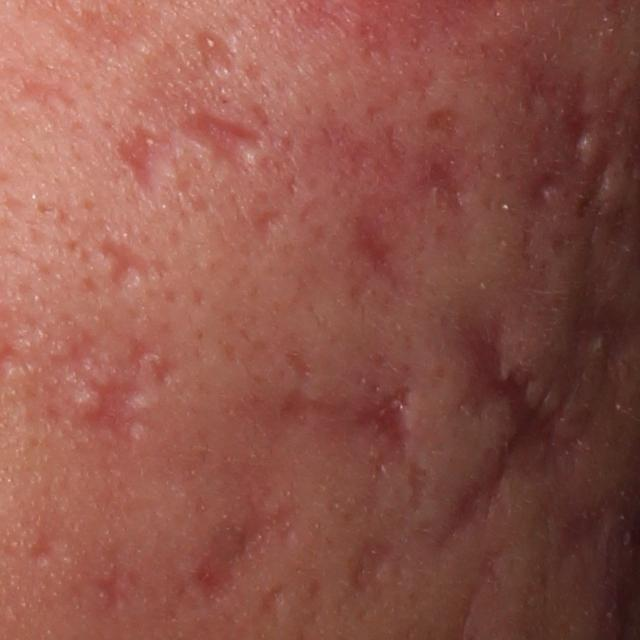atrophic_scar: (444, 318, 574, 545), (539, 245, 636, 412), (185, 499, 303, 605), (275, 382, 415, 466), (511, 51, 596, 160), (70, 374, 152, 448), (176, 107, 273, 168), (110, 125, 173, 207), (342, 212, 400, 291), (96, 233, 175, 290), (81, 559, 135, 616), (349, 532, 396, 596), (577, 142, 616, 218), (413, 162, 467, 216), (20, 514, 66, 568), (9, 74, 76, 108), (196, 29, 242, 75), (523, 163, 564, 212), (421, 100, 466, 142), (252, 205, 287, 245), (258, 584, 286, 628), (282, 347, 315, 383), (148, 358, 178, 387)
hypertrophic_scar: (67, 384, 110, 415), (573, 131, 604, 168), (127, 389, 159, 418)
